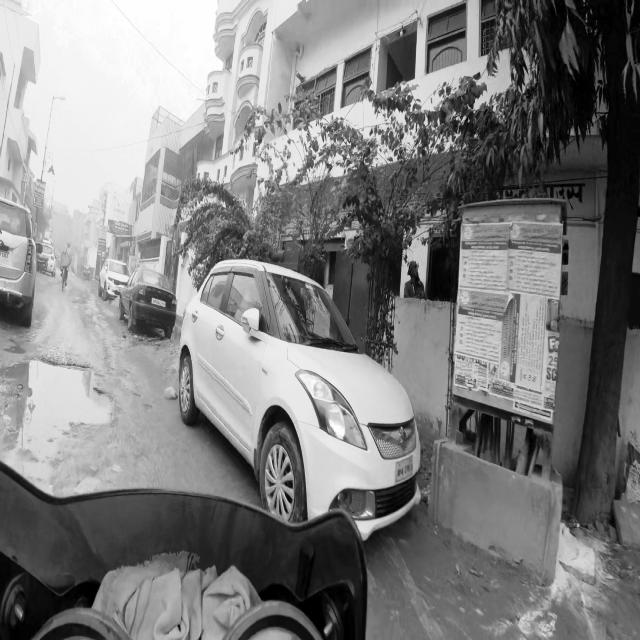Car: (177, 251, 429, 545), (0, 193, 39, 328), (118, 268, 180, 339)
